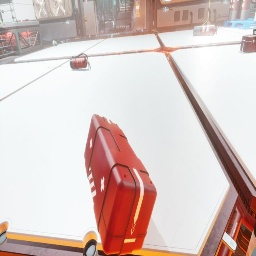0: (254, 10, 256, 21), (53, 41, 57, 46), (0, 20, 2, 24)
EmergencyPhone ,: (84, 14, 88, 23)
FireExtinguisher ]: (70, 53, 91, 70), (255, 28, 256, 34)
FirstAidBox ,: (84, 114, 157, 256), (240, 29, 256, 53), (18, 19, 28, 22)
NitrogenTank ,: (193, 25, 218, 36), (240, 0, 249, 21), (230, 0, 239, 21), (246, 0, 252, 20), (228, 0, 233, 21)
SafetySwitchPanel ,: (135, 0, 140, 18)
